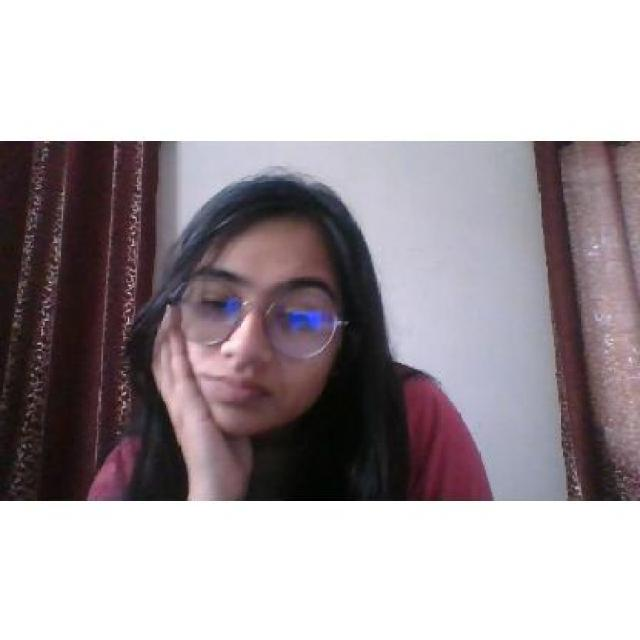inattentif: (178, 174, 348, 435)
